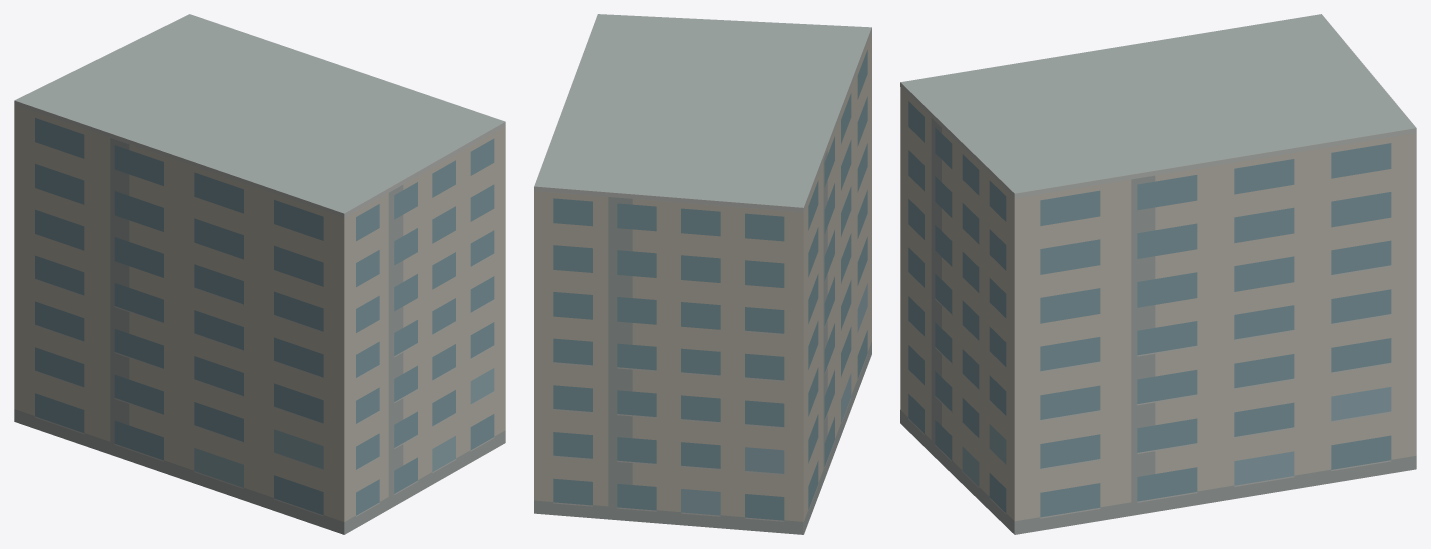
The model's file is survey-upis-32844683.glb.
3 views of the same model, side by side, from view 1: azimuth 30°, elevation 25°; view 2: azimuth 150°, elevation 25°; view 3: azimuth 270°, elevation 25° (orthographic). The views are drawn at different scales.
Parts seen in each view (by area): view 1: survey-upis-32844683.tmp; view 2: survey-upis-32844683.tmp; view 3: survey-upis-32844683.tmp.
Boxes of the visible parts, box(x1,y1,x2,y2) form: survey-upis-32844683.tmp: box(14, 14, 505, 534); survey-upis-32844683.tmp: box(534, 14, 871, 534); survey-upis-32844683.tmp: box(900, 14, 1416, 534).
Size of the model in its own units: 19.78 by 17.5 by 24.02.
